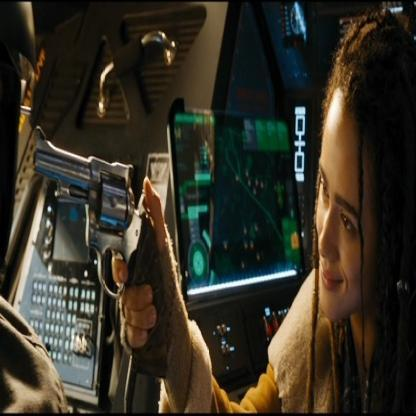gun: (29, 95, 180, 392)
